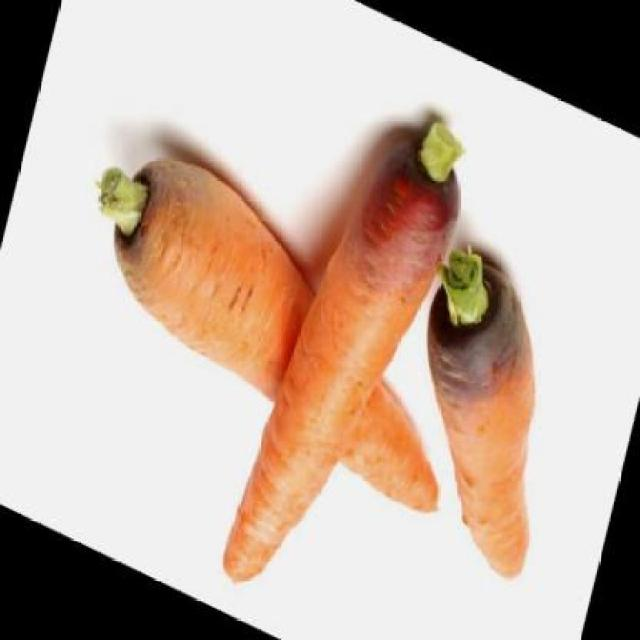carrot: (81, 133, 488, 522), (218, 72, 476, 639), (381, 236, 587, 581)
